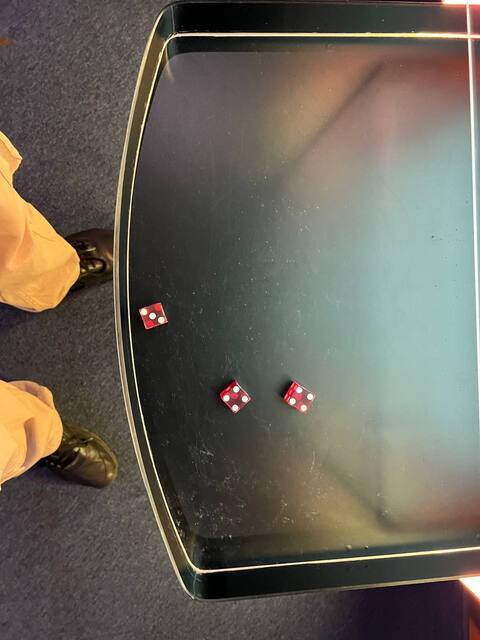four: (218, 381, 253, 416), (285, 384, 318, 416)
three: (137, 299, 172, 333)
